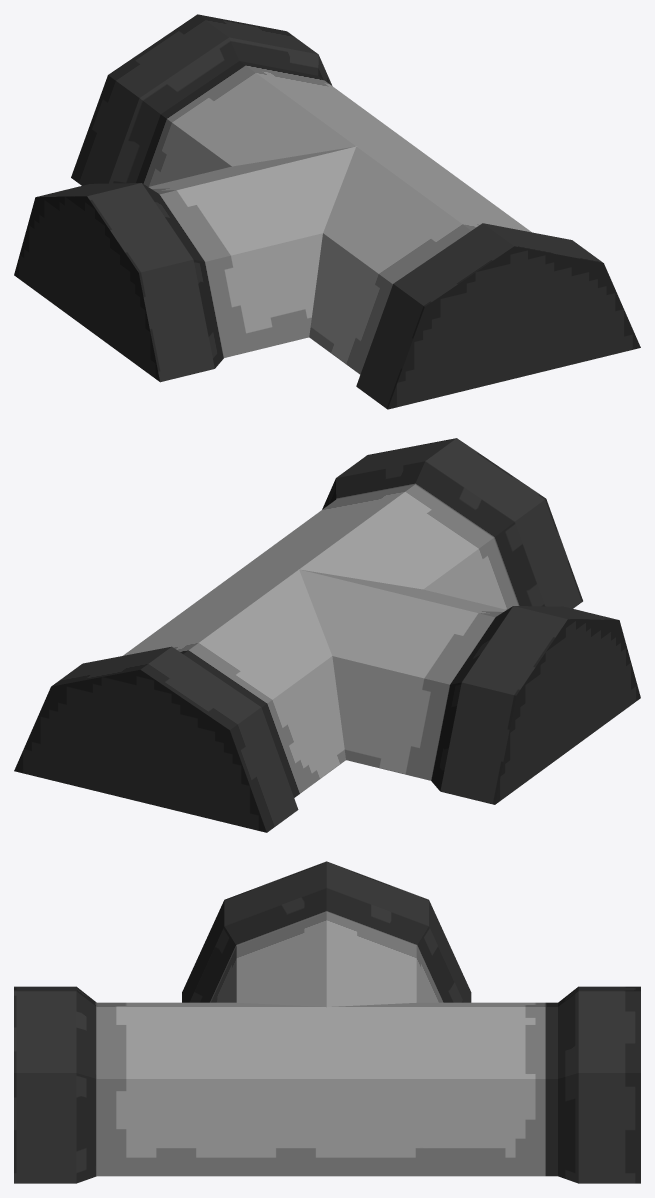
The model's file is buis T.FBX.
3 views of the same model, one above another, from view 1: azimuth 30°, elevation 25°; view 2: azimuth 150°, elevation 25°; view 3: azimuth 270°, elevation 25° (orthographic).
Parts seen in each view (by area): view 1: Cylinder004; view 2: Cylinder004; view 3: Cylinder004.
Part boxes in pixels (bbox=[...]): Cylinder004: bbox=[14, 14, 640, 409]; Cylinder004: bbox=[14, 438, 640, 832]; Cylinder004: bbox=[14, 861, 640, 1183].
Bounding box in the file's own units: 0.7238 × 0.2315 × 1.
Materials: 1 (1 with a texture image).
